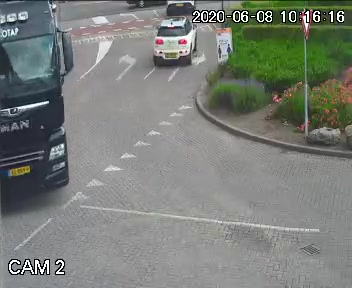car: (0, 0, 100, 210), (141, 17, 199, 72), (161, 0, 194, 14)
